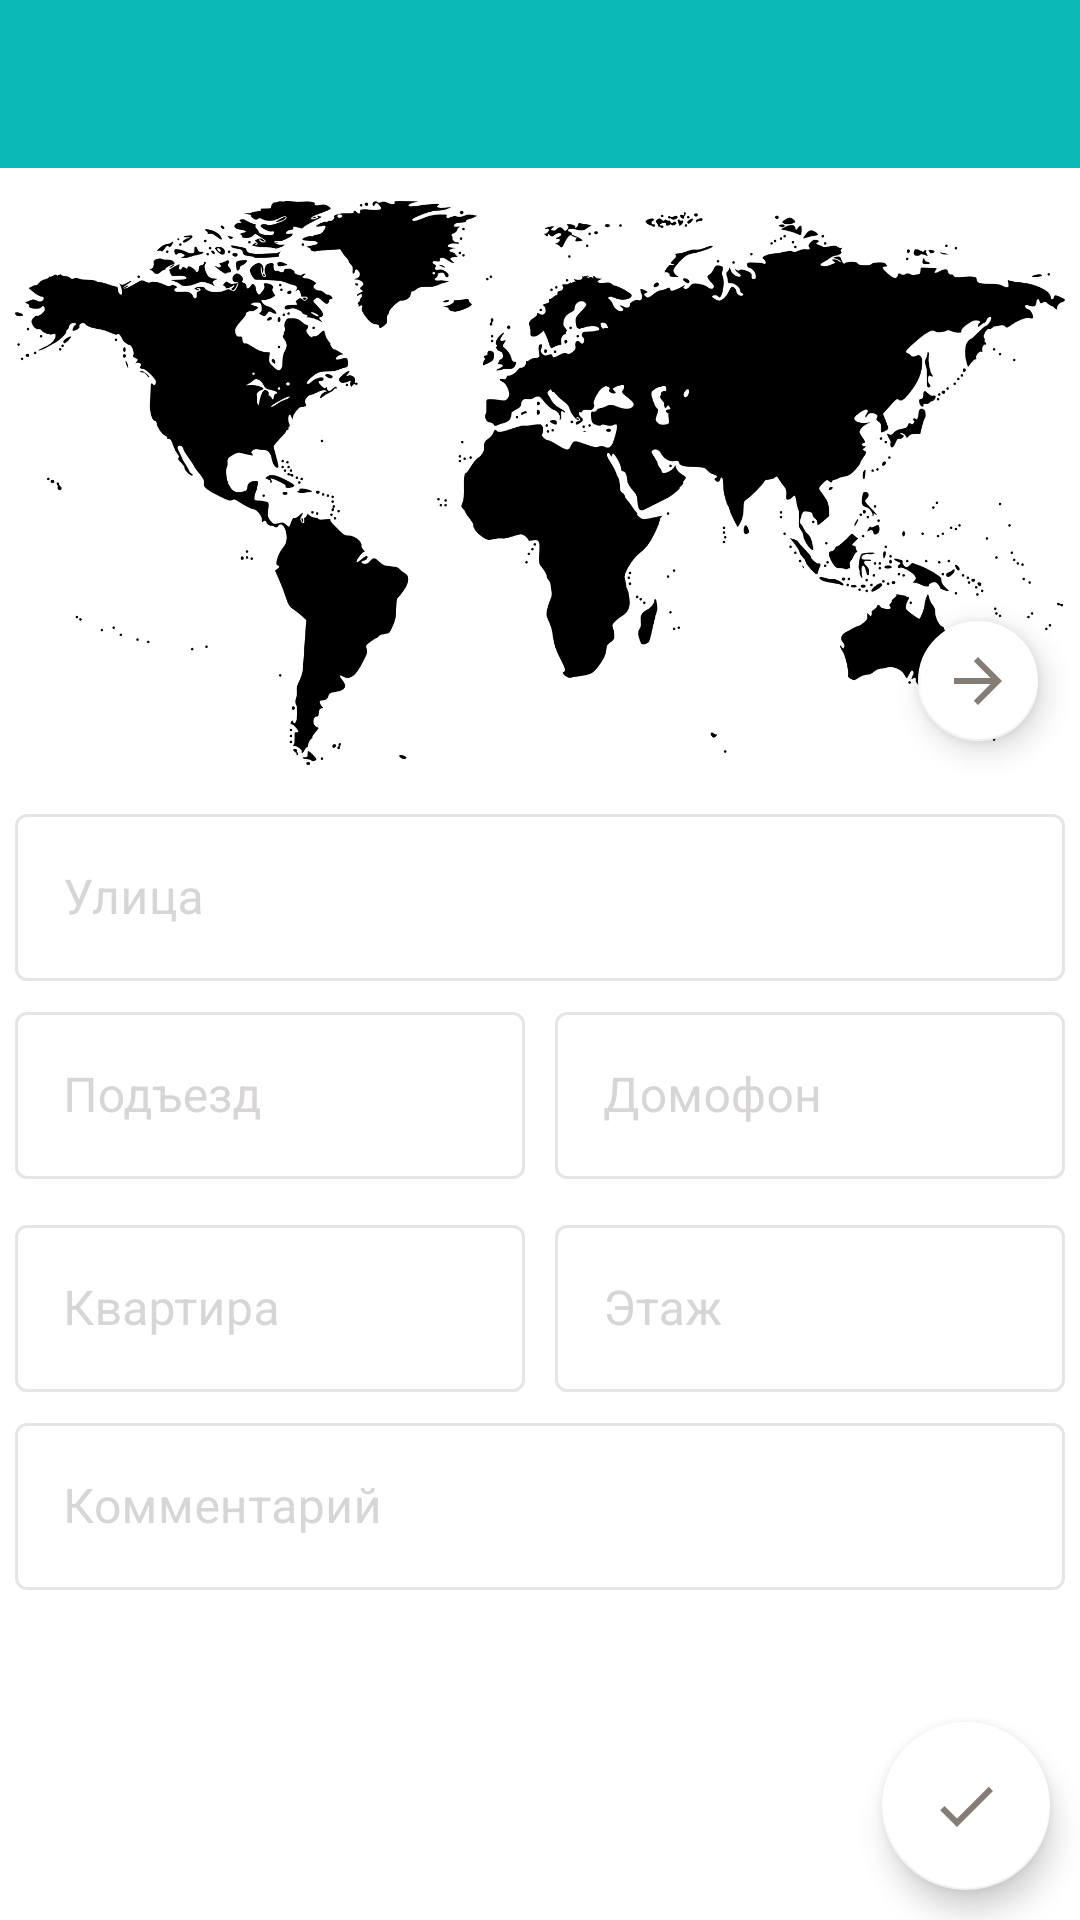

Where to tap for icons on this 1080 × 1920 app screen, as [x,y]:
arrow forward: [978,677]
complete: [969,1838]
